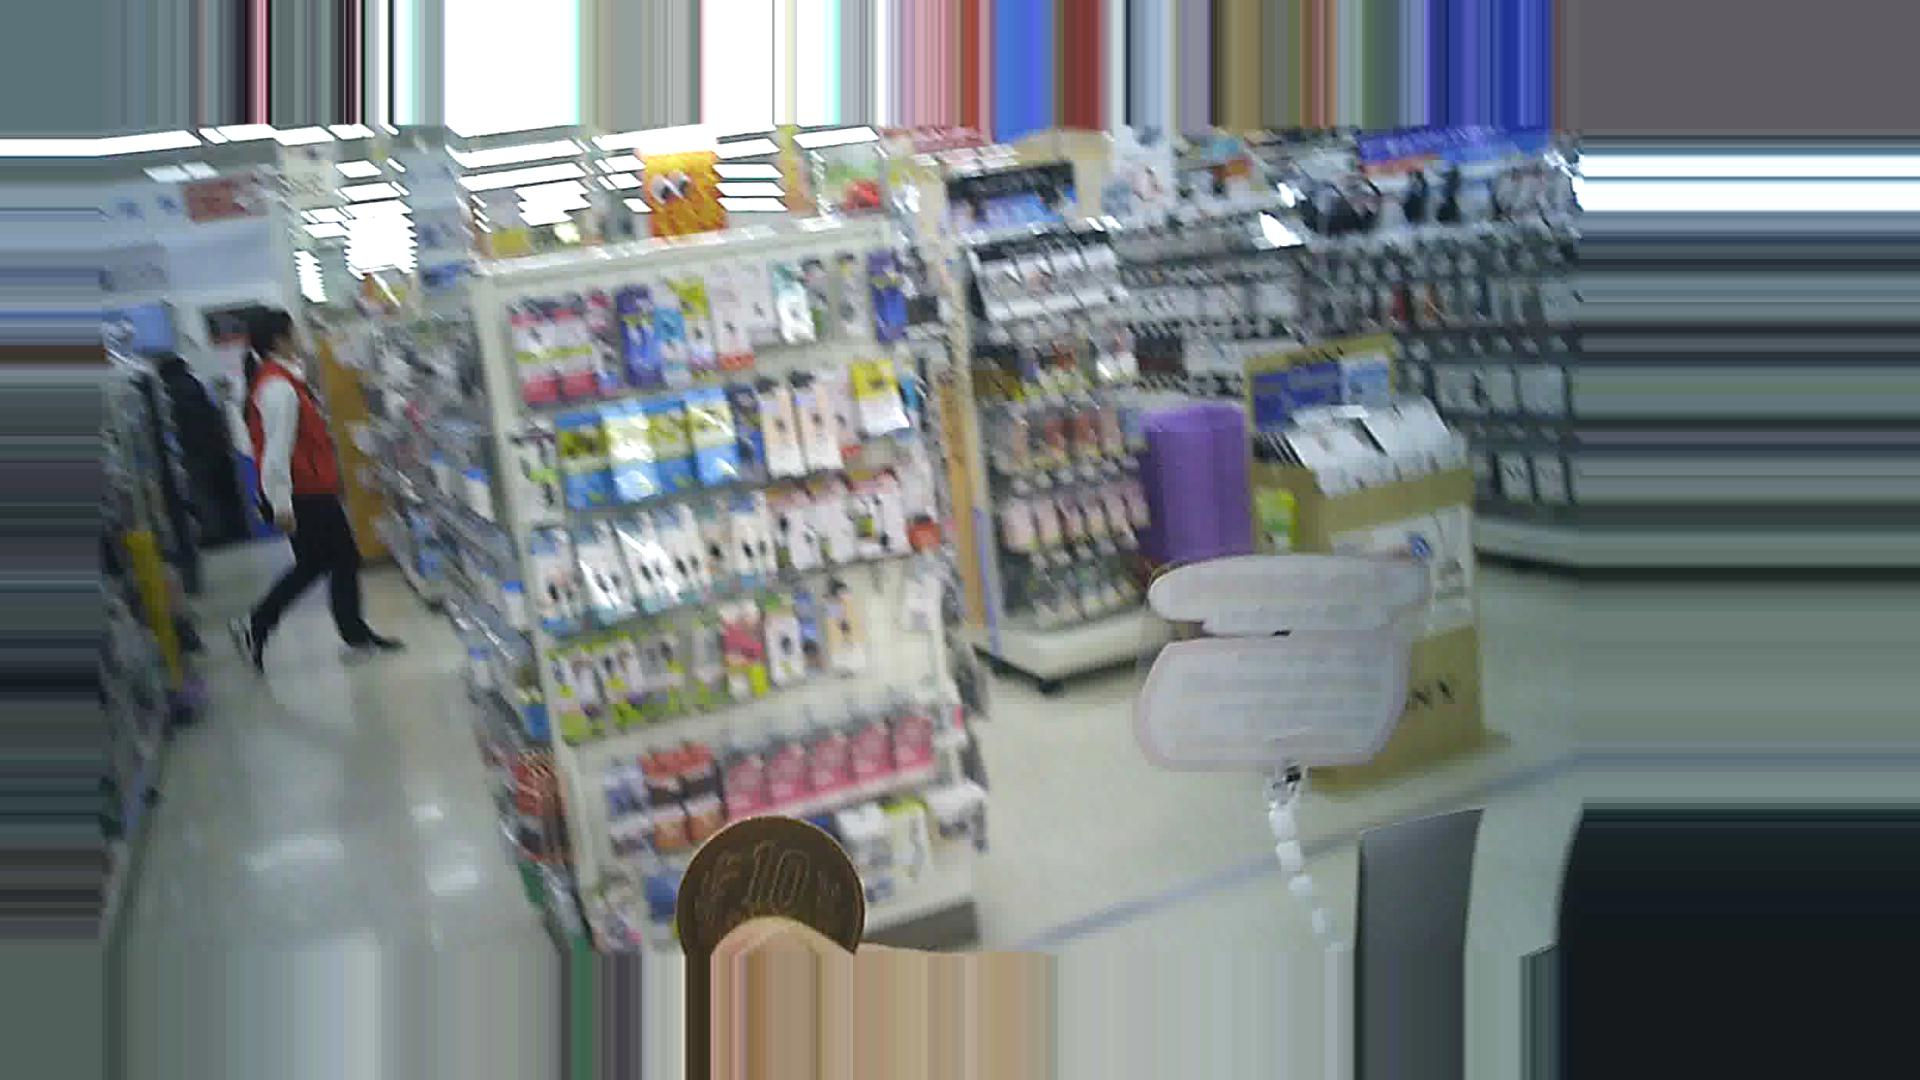10 Yen: (673, 812, 868, 949)
